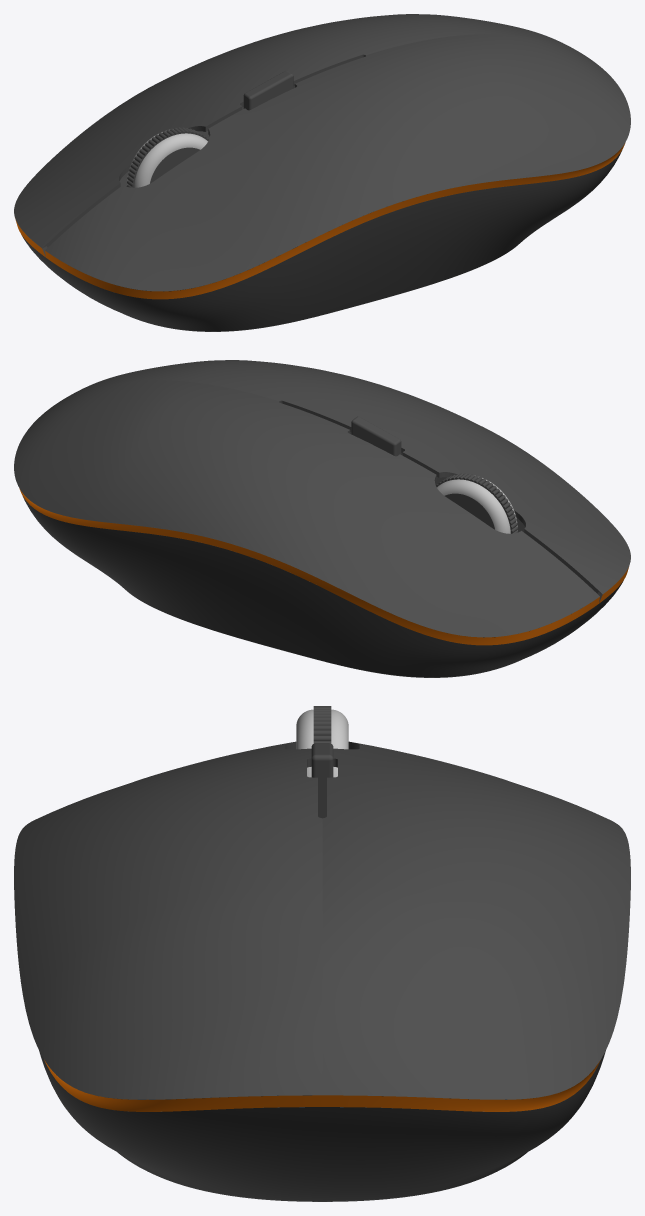
File: Mouse_2.gltf
3 renders of one model, top to bottom at view 1: azimuth 30°, elevation 25°; view 2: azimuth 150°, elevation 25°; view 3: azimuth 270°, elevation 25°, orthographic. The views are drawn at different scales.
Parts seen in each view (by area): view 1: Mouse 2; view 2: Mouse 2; view 3: Mouse 2.
Part boxes in pixels (x1,y1,x2,y2): Mouse 2: (14,14,630,331); Mouse 2: (14,360,630,677); Mouse 2: (14,706,630,1201).
Size of the model in its own units: 0.1162 by 0.0361 by 0.0703.
